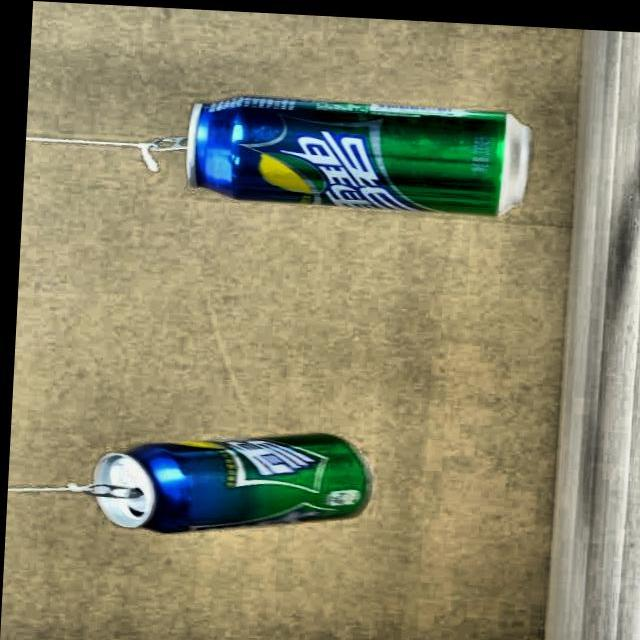Aluminum Can: (175, 84, 532, 218), (78, 410, 370, 555)
